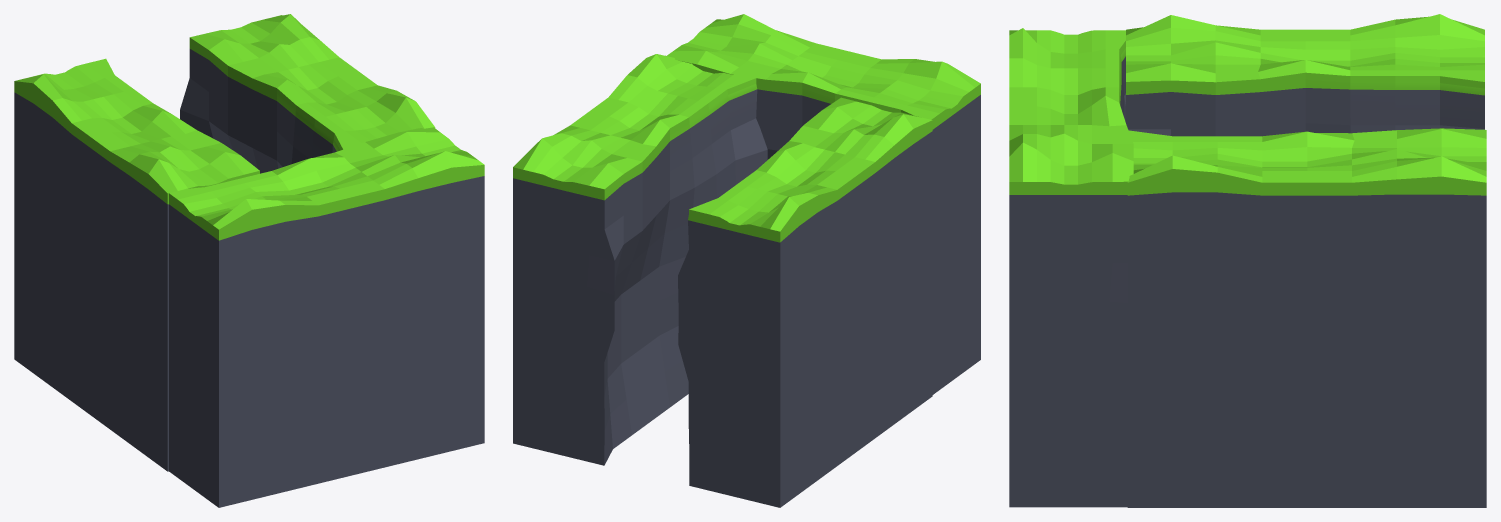
Rendered from BlockSet11.dae.
3 views of the same model, side by side, from view 1: azimuth 30°, elevation 25°; view 2: azimuth 150°, elevation 25°; view 3: azimuth 270°, elevation 25° (orthographic). The views are drawn at different scales.
Visible parts, largest first — view 1: BlockSet11Fin; view 2: BlockSet11Fin; view 3: BlockSet11Fin.
Part boxes in pixels (x1,y1,x2,y2): BlockSet11Fin: [14, 14, 484, 507]; BlockSet11Fin: [513, 14, 980, 507]; BlockSet11Fin: [1009, 14, 1486, 507].
Size of the model in its own units: 157 by 166 by 207.
